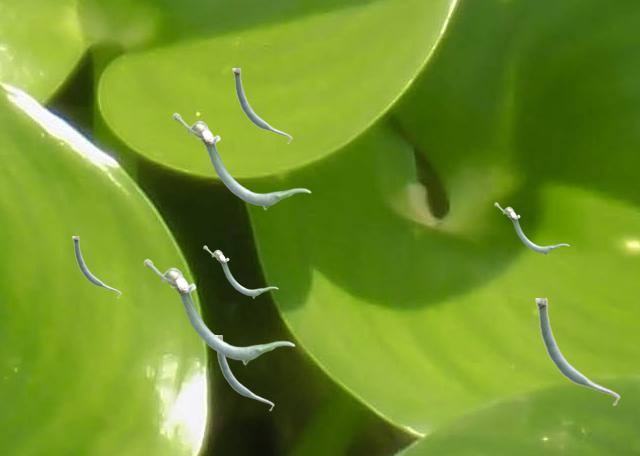french_bean: (143, 258, 294, 364), (172, 112, 310, 209), (535, 298, 619, 405), (232, 68, 291, 143), (216, 335, 273, 410), (494, 202, 568, 254), (203, 245, 277, 297), (72, 236, 120, 297)
